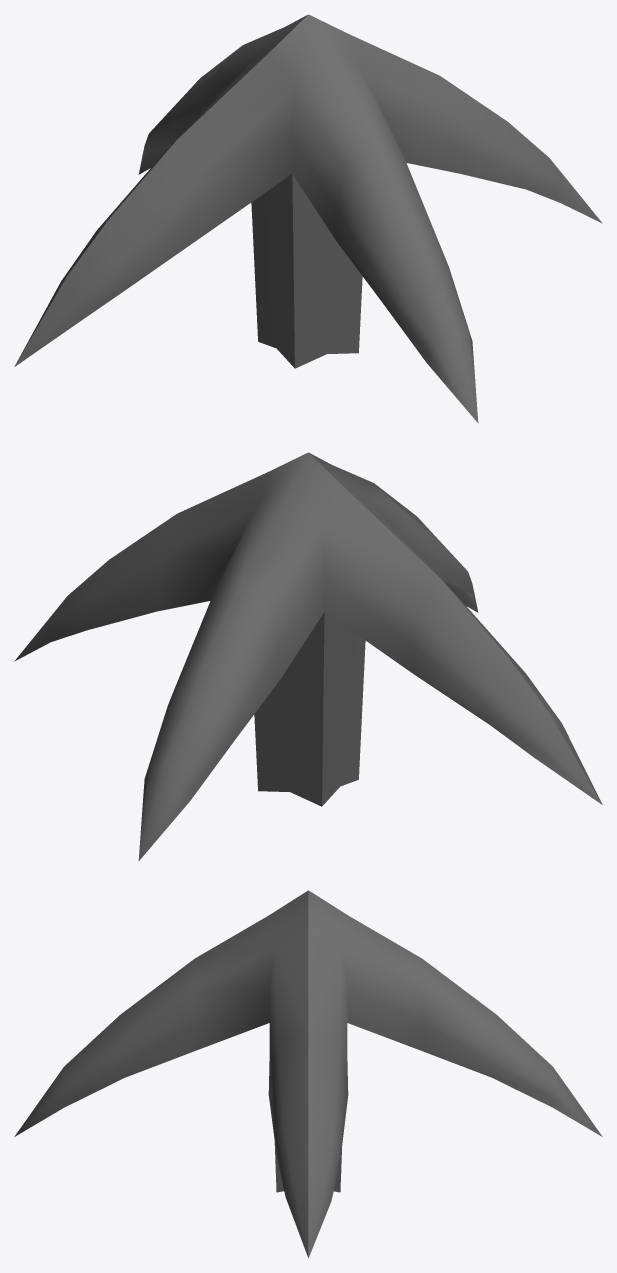
3 views of the same model, one above another, from view 1: azimuth 30°, elevation 25°; view 2: azimuth 150°, elevation 25°; view 3: azimuth 270°, elevation 25° (orthographic). The views are drawn at different scales.
Visible parts, largest first — view 1: Cylinder001; view 2: Cylinder001; view 3: Cylinder001.
Part boxes in pixels (left/top/right/bottom): Cylinder001: left=14, top=14, right=602, bottom=422; Cylinder001: left=14, top=452, right=602, bottom=860; Cylinder001: left=14, top=890, right=602, bottom=1258.
Size of the model in its own units: 17.28 by 9.34 by 17.26.
Materials: 1 (1 with a texture image).
